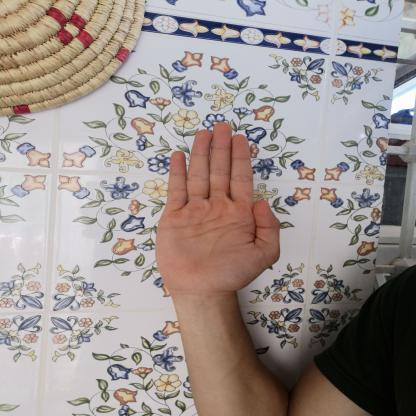SEEN: (143, 114, 295, 302)
